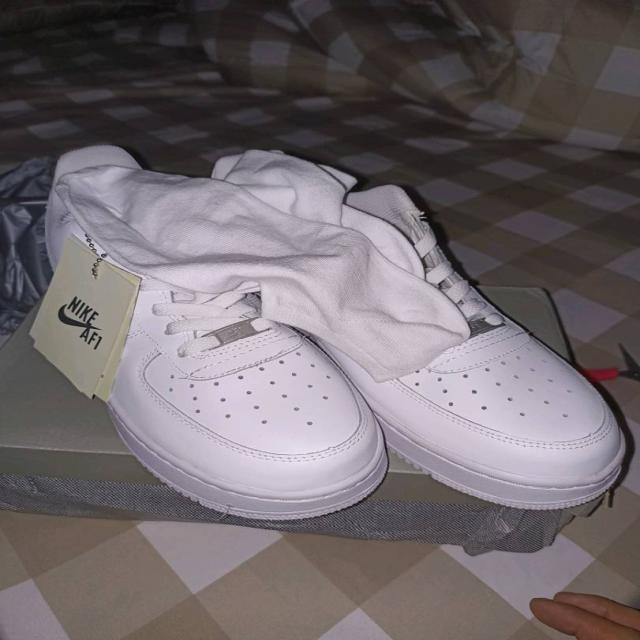nike fake air force: (209, 112, 632, 512), (36, 144, 390, 524)
